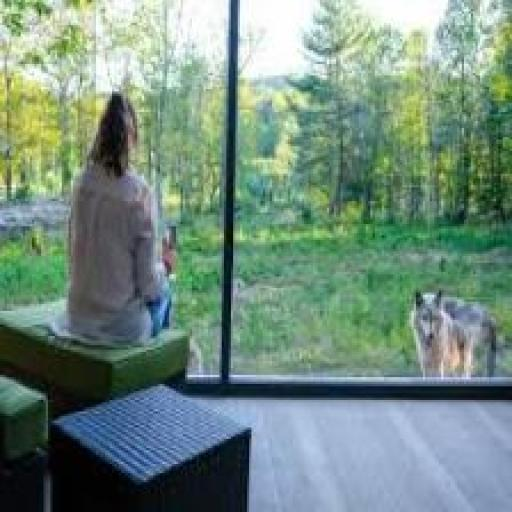wolf: (397, 283, 512, 412)
